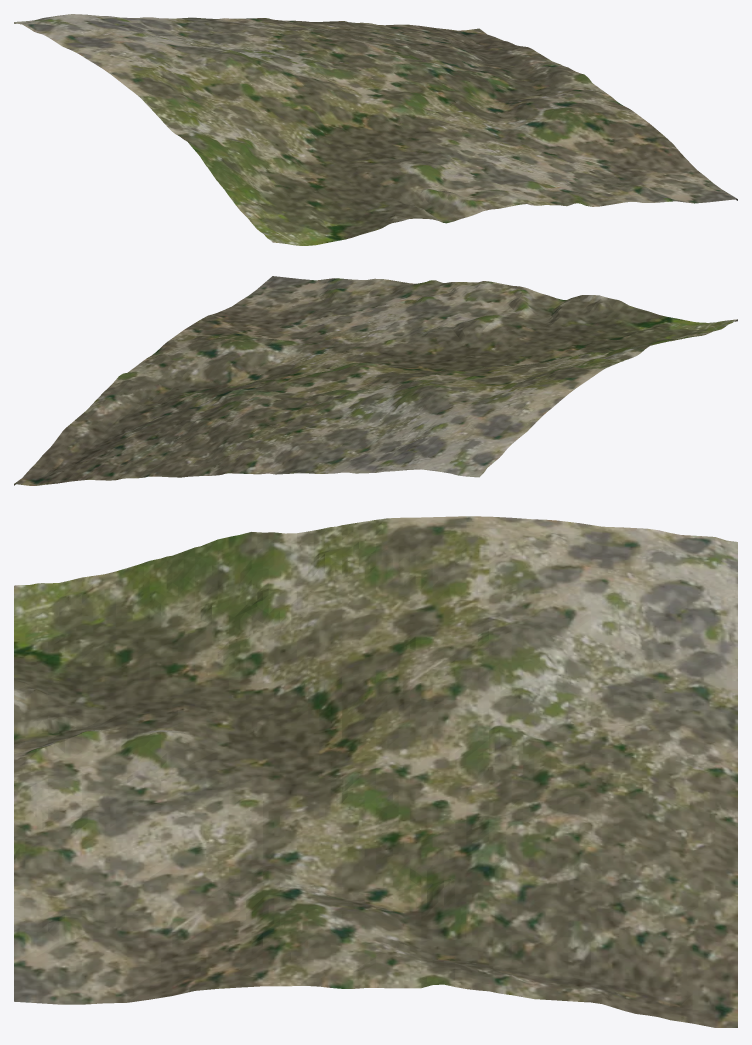
3 renders of one model, top to bottom at view 1: azimuth 30°, elevation 25°; view 2: azimuth 150°, elevation 25°; view 3: azimuth 270°, elevation 25°, orthographic. The views are drawn at different scales.
Size of the model in its own units: 250 by 72.08 by 241.
Materials: 1 (1 with a texture image).
